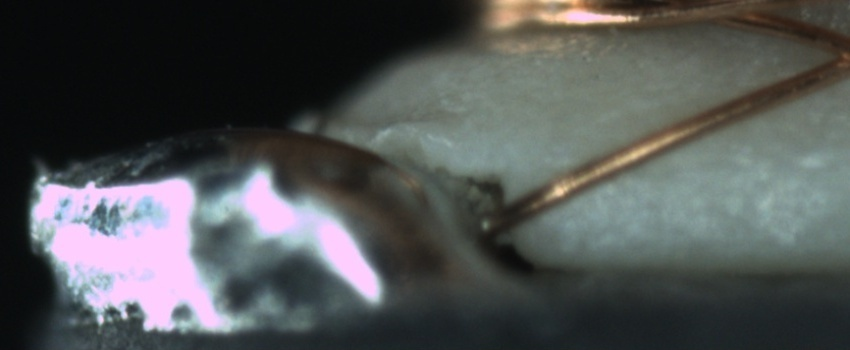CL: (804, 26, 850, 87)
